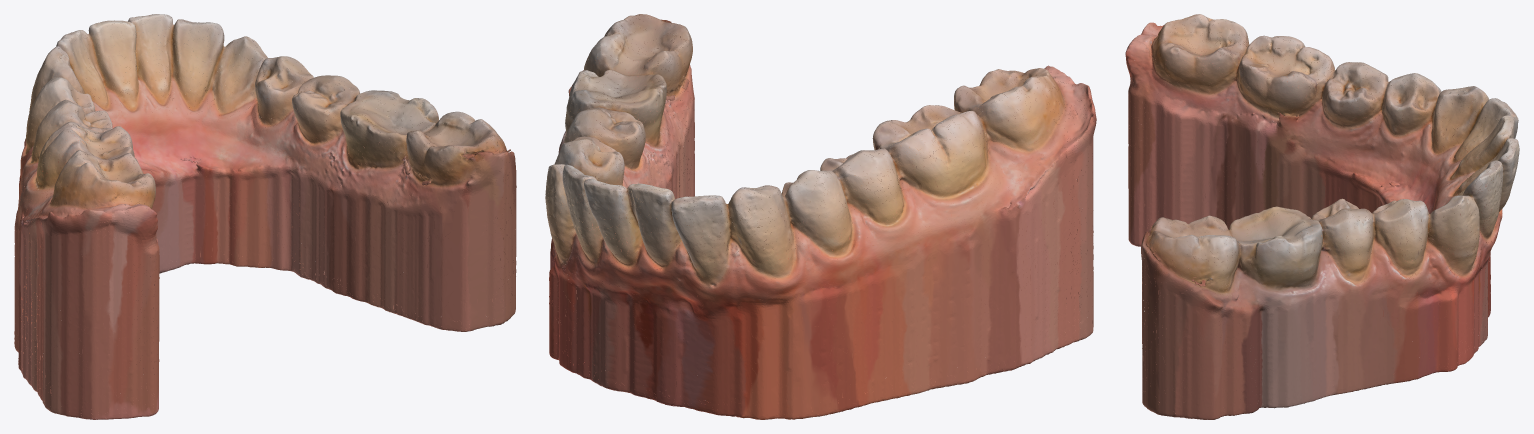
File: Periodontitis.gltf
3 views of the same model, side by side, from view 1: azimuth 30°, elevation 25°; view 2: azimuth 150°, elevation 25°; view 3: azimuth 270°, elevation 25° (orthographic). The views are drawn at different scales.
Parts seen in each view (by area): view 1: arcadainferiororiginaltrasmeshlab_2; view 2: arcadainferiororiginaltrasmeshlab_2; view 3: arcadainferiororiginaltrasmeshlab_2.
Boxes of the visible parts, x1,y1,x2,y2 form: arcadainferiororiginaltrasmeshlab_2: (14, 14, 516, 419); arcadainferiororiginaltrasmeshlab_2: (545, 14, 1096, 419); arcadainferiororiginaltrasmeshlab_2: (1125, 14, 1519, 419).
Size of the model in its own units: 62.68 by 29.92 by 49.15.
